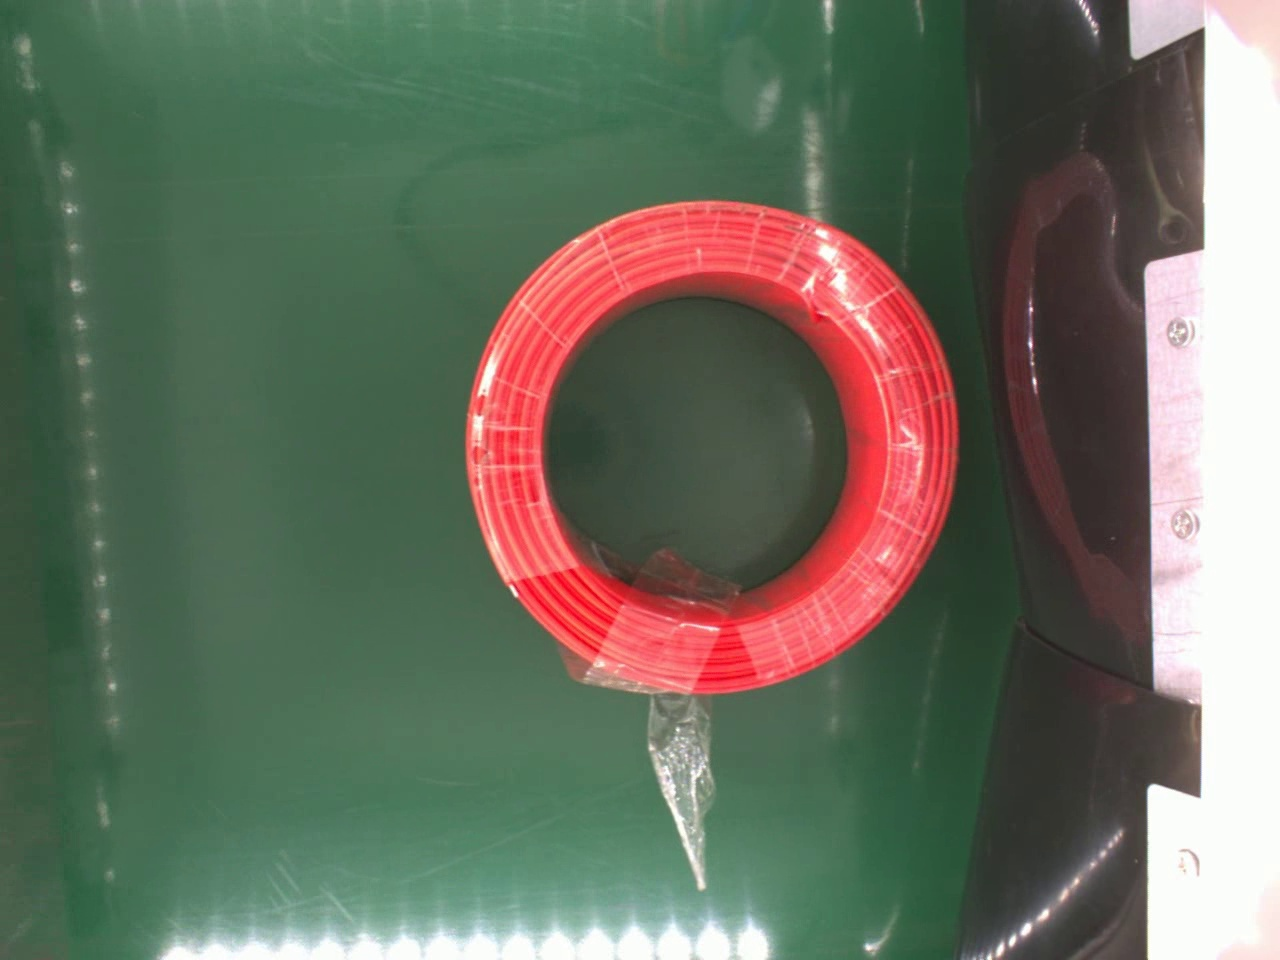red: (462, 199, 961, 697)
